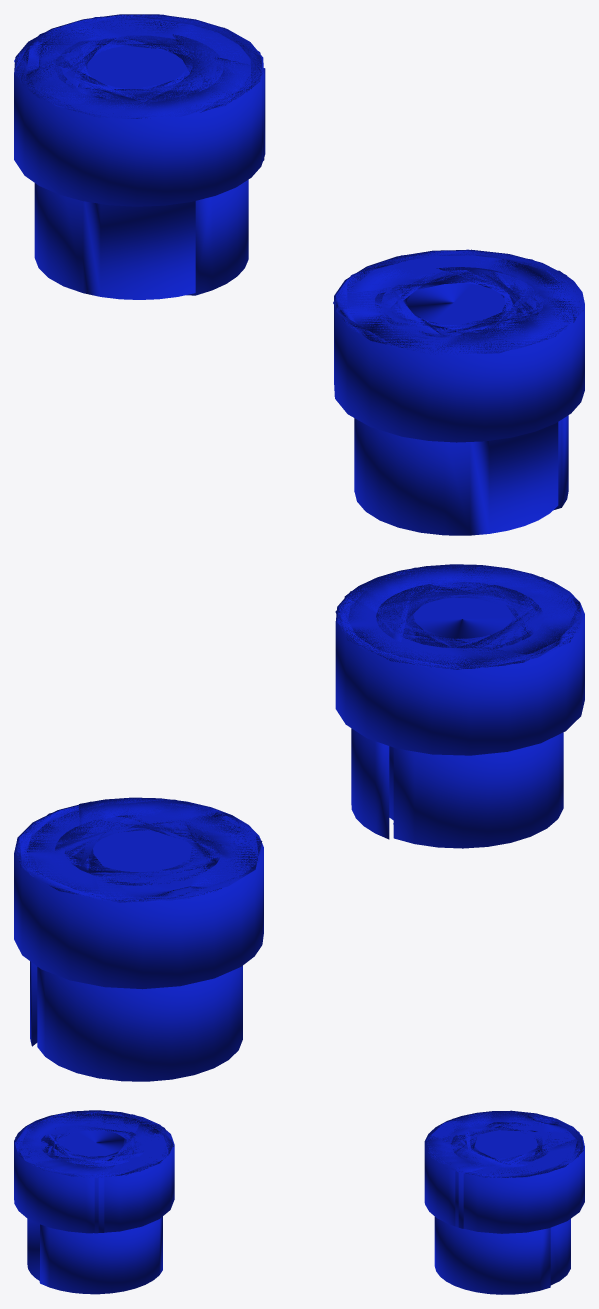
Rendered from tuyeau_element_000089.obj.
The picture shows the model from 3 angles, top to bottom: view 1: azimuth 30°, elevation 25°; view 2: azimuth 150°, elevation 25°; view 3: azimuth 270°, elevation 25°; orthographic projection. The views are drawn at different scales.
Parts seen in each view (by area): view 1: tuyeau1_Cube.014, tuyeau2_Cube.017; view 2: tuyeau2_Cube.017, tuyeau1_Cube.014; view 3: tuyeau1_Cube.014, tuyeau2_Cube.017.
Boxes of the visible parts, x1,y1,x2,y2 form: tuyeau1_Cube.014: [14, 14, 265, 299]; tuyeau2_Cube.017: [333, 249, 584, 535]; tuyeau2_Cube.017: [335, 564, 584, 848]; tuyeau1_Cube.014: [14, 797, 263, 1081]; tuyeau1_Cube.014: [424, 1110, 584, 1294]; tuyeau2_Cube.017: [14, 1110, 174, 1294].
Size of the model in its own units: 3555 by 2917 by 12520.
